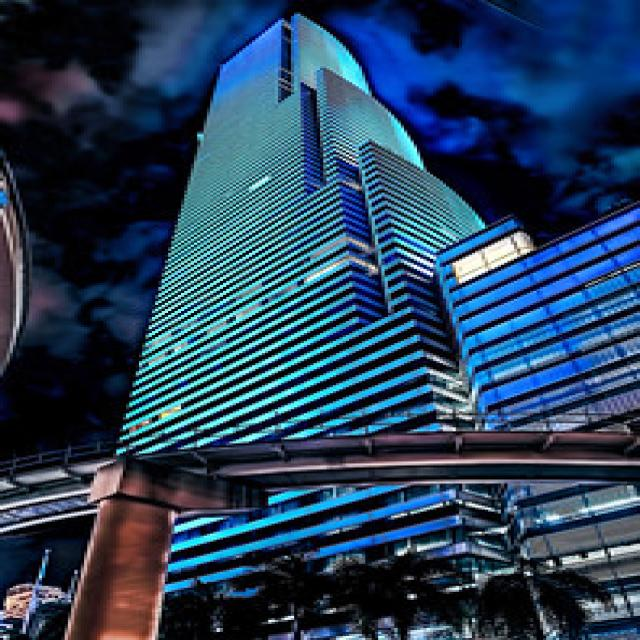building: (74, 12, 527, 640)
